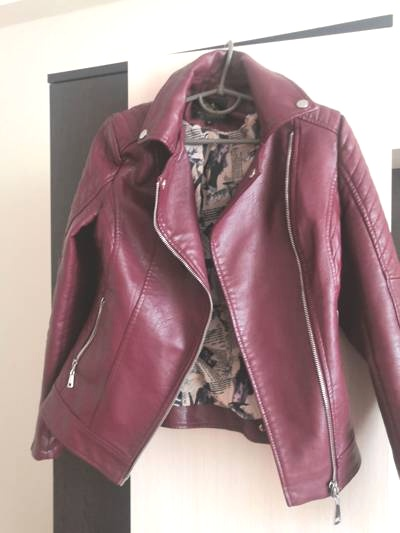Blazer: (22, 51, 395, 505)
